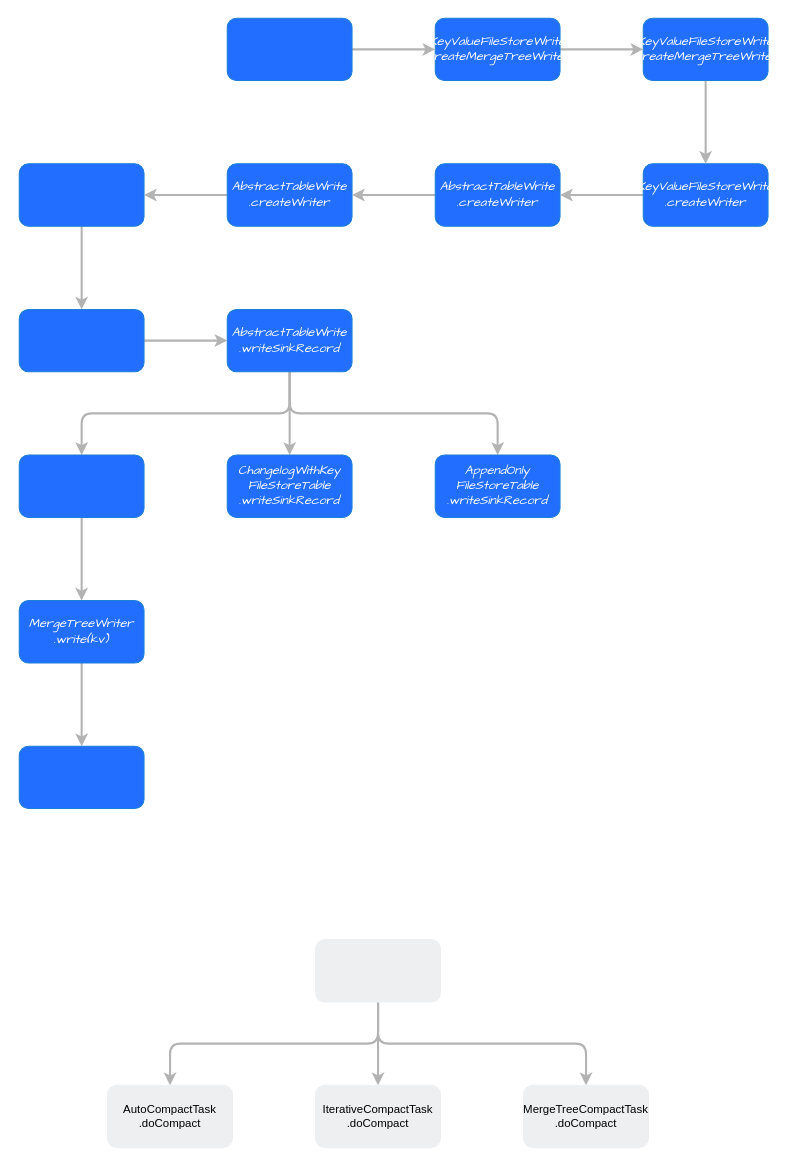
Image size: 797x1166. Some labels were removed from this diagram. Here are the shapes that lost their labels. From the top down, the box of each, then its label:
(226, 17, 352, 81): new MergeTreeWriter
(18, 163, 144, 226): AbstractTableWrite .getWriter()
(18, 308, 144, 372): AbstractTableWrite .write
(18, 454, 144, 517): ChangelogValueCount FileStoreTable .writeSinkRecord
(18, 745, 144, 809): SortBufferMemTable put
(315, 939, 440, 1002): CompactTask .doCompact
